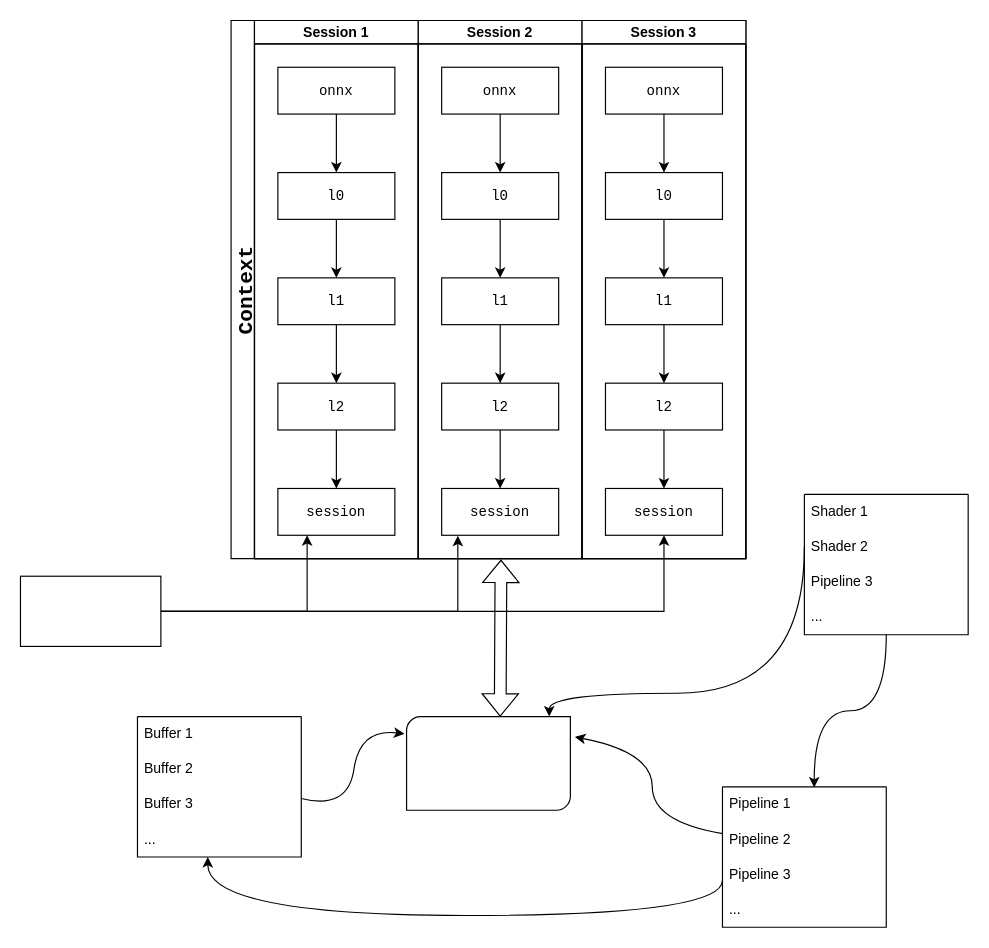
This 989x948 diagram has some shape labels left out. Here are the shapes that lost their labels. From the top down, the centre of each, then its label:
(x=90, y=610): User
(x=487, y=762): Vulkan
